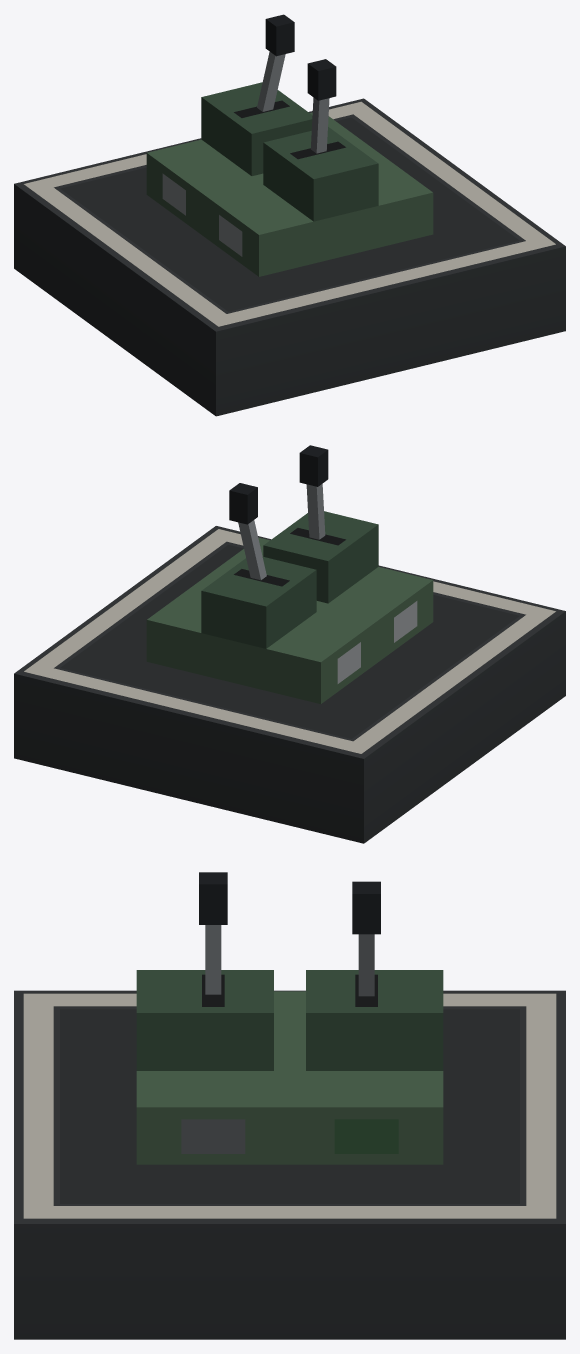
Rendered from machine.lever.green.glb.
3 renders of one model, top to bottom at view 1: azimuth 30°, elevation 25°; view 2: azimuth 150°, elevation 25°; view 3: azimuth 270°, elevation 25°, orthographic. The views are drawn at different scales.
Parts seen in each view (by area): view 1: machine_lever_green; view 2: machine_lever_green; view 3: machine_lever_green.
Boxes of the visible parts, left/top/right/bottom form: machine_lever_green: left=14, top=14, right=565, bottom=416; machine_lever_green: left=14, top=445, right=565, bottom=843; machine_lever_green: left=14, top=872, right=565, bottom=1339.
Size of what is drawn, in the model's own units: 1.73 by 1.2 by 1.73.
